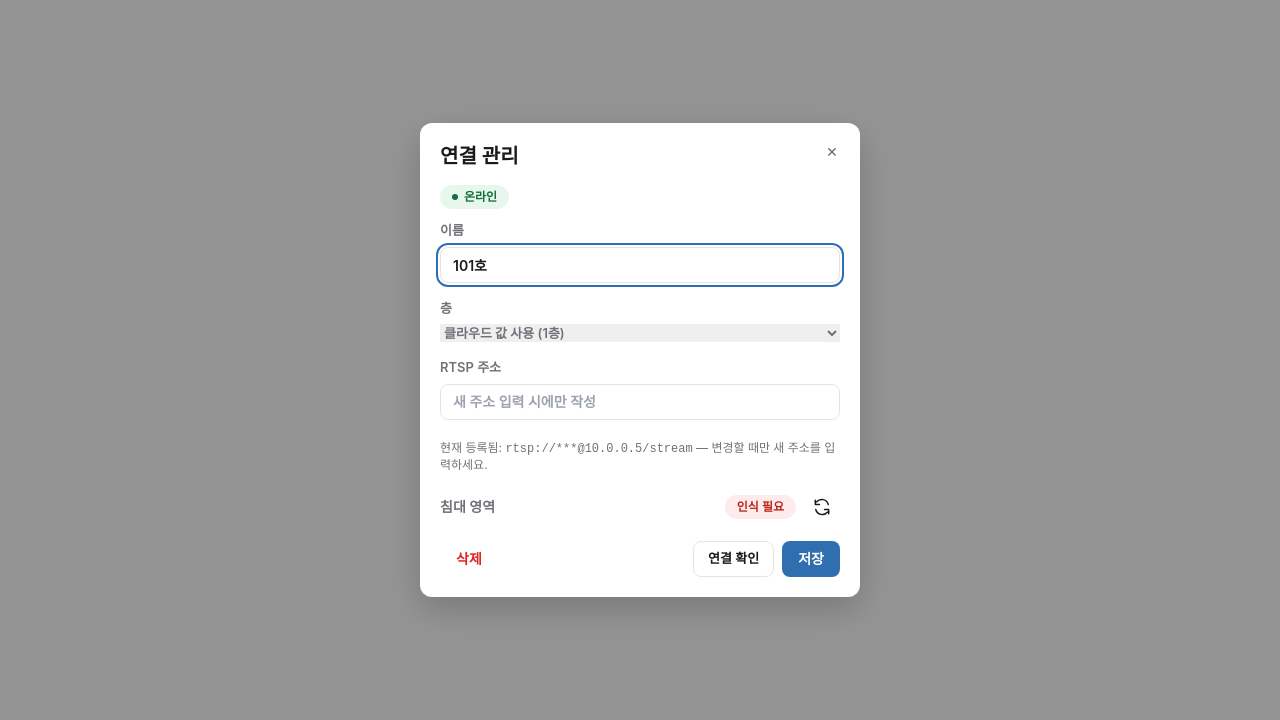
Scenario: CameraEditModal › does not claim a decode failure when the worker probe is unreachable
Click the button "연결 확인": click(734, 559) [693,541,774,577]
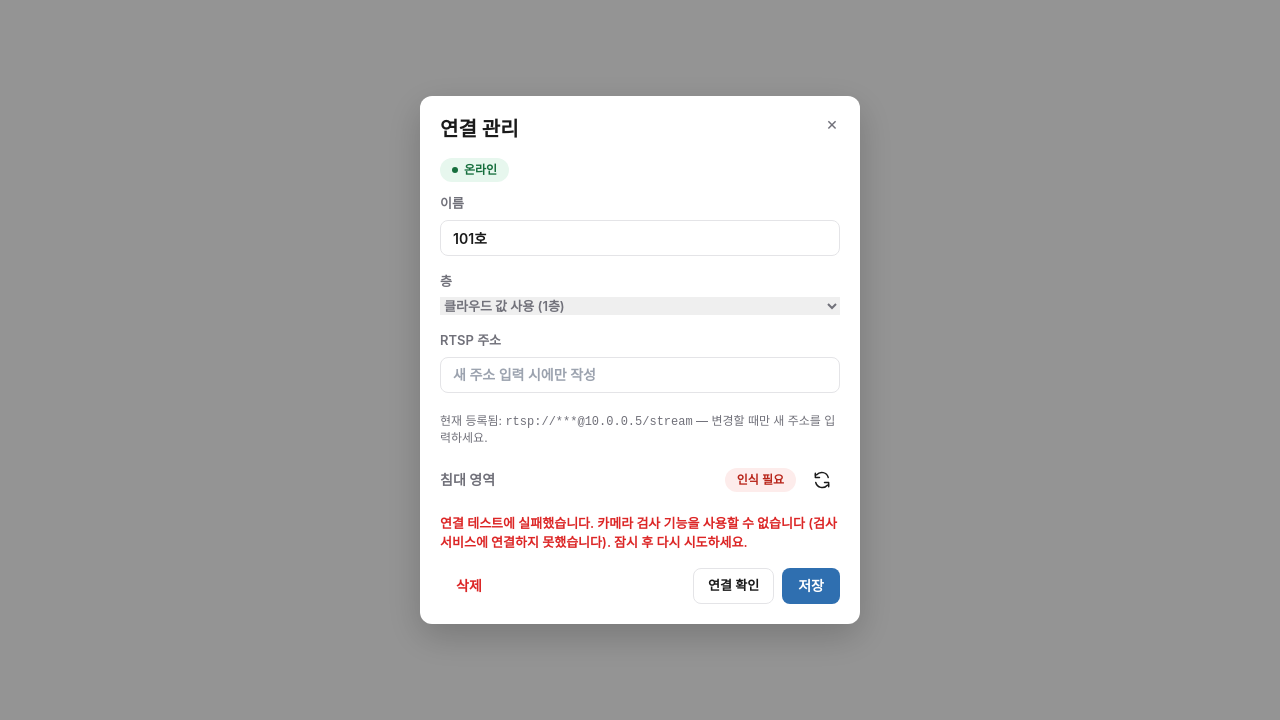
Expected: the message "연결 테스트에 실패했습니다. 카메라 검사 기능을 사용할 수 없습니다 (검사 서비스에 연결하지 못했습니다). 잠시 후 다시 시도하세요." is shown, [440,514,840,552]
